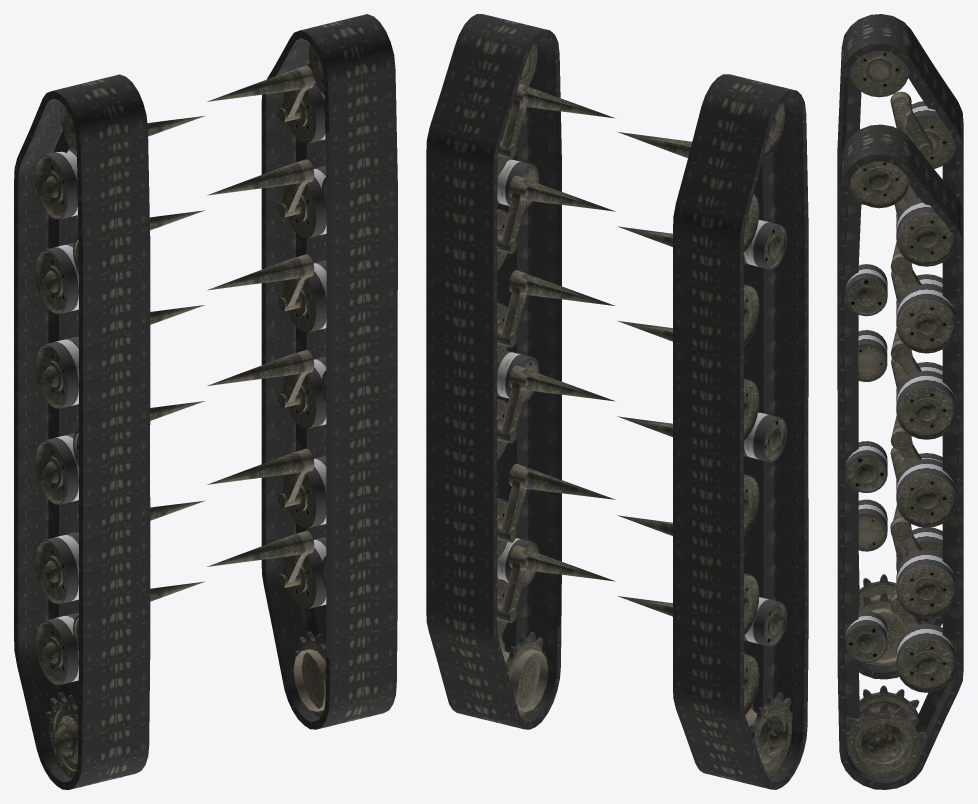
The model's file is Chassis.glb.
3 renders of one model, left to right at view 1: azimuth 30°, elevation 25°; view 2: azimuth 150°, elevation 25°; view 3: azimuth 270°, elevation 25°, orthographic. The views are drawn at different scales.
Visible parts, largest first — view 1: set_0_group_0, set_1_group_0, set_3_group_0, set_2_group_0; view 2: set_0_group_0, set_1_group_0, set_3_group_0, set_2_group_0; view 3: set_3_group_0, set_1_group_0, set_2_group_0, set_0_group_0.
Part boxes in pixels (<box>): set_0_group_0: <box>14,74,150,789</box>; set_1_group_0: <box>261,14,397,729</box>; set_3_group_0: <box>207,44,384,721</box>; set_2_group_0: <box>35,104,205,786</box>; set_0_group_0: <box>673,74,808,789</box>; set_1_group_0: <box>426,14,561,729</box>; set_3_group_0: <box>462,43,615,721</box>; set_2_group_0: <box>617,103,792,781</box>; set_3_group_0: <box>845,161,956,778</box>; set_1_group_0: <box>837,124,963,789</box>; set_2_group_0: <box>850,50,955,667</box>; set_0_group_0: <box>837,14,963,679</box>.
Bounding box in the file's own units: 3.06 × 6.42 × 1.16.
Materials: 4 (4 with a texture image).
